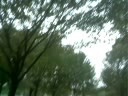window: (104, 42, 117, 63), (42, 69, 55, 88), (57, 64, 66, 88), (80, 53, 90, 71), (99, 21, 110, 30), (79, 32, 87, 41), (49, 52, 53, 58), (61, 45, 65, 50)
